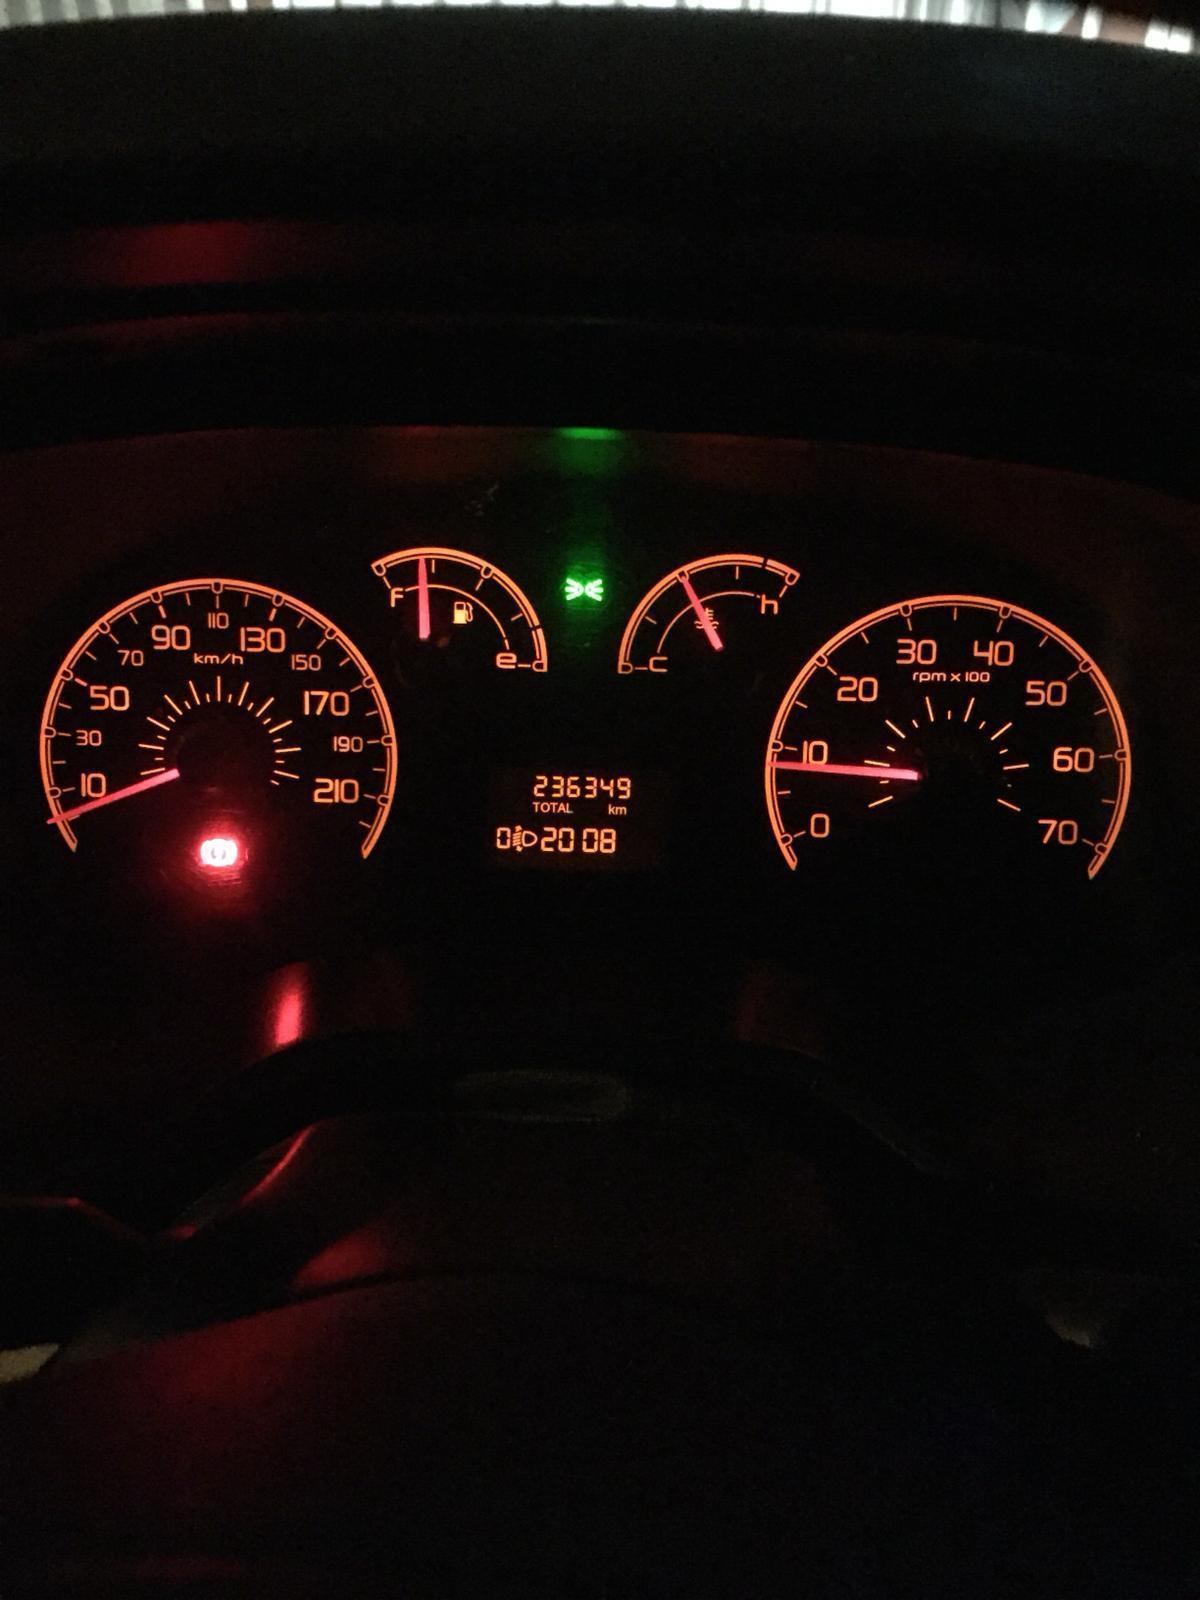0: (558, 825, 574, 854), (582, 826, 597, 854), (495, 825, 511, 849)
2: (539, 825, 557, 854), (532, 774, 547, 797)
3: (585, 775, 597, 799), (551, 774, 563, 797)
4: (599, 776, 614, 797)
6: (566, 774, 581, 797)
8: (599, 826, 616, 853)
9: (616, 776, 632, 800)
X: (615, 805, 626, 815), (550, 800, 558, 813), (531, 800, 539, 813), (557, 801, 566, 813), (541, 801, 550, 813), (608, 803, 615, 815), (566, 803, 574, 814)
odometer: (469, 755, 650, 876)
